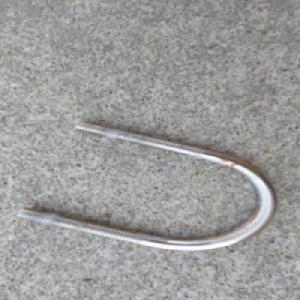ClampPart: (17, 119, 281, 252)
